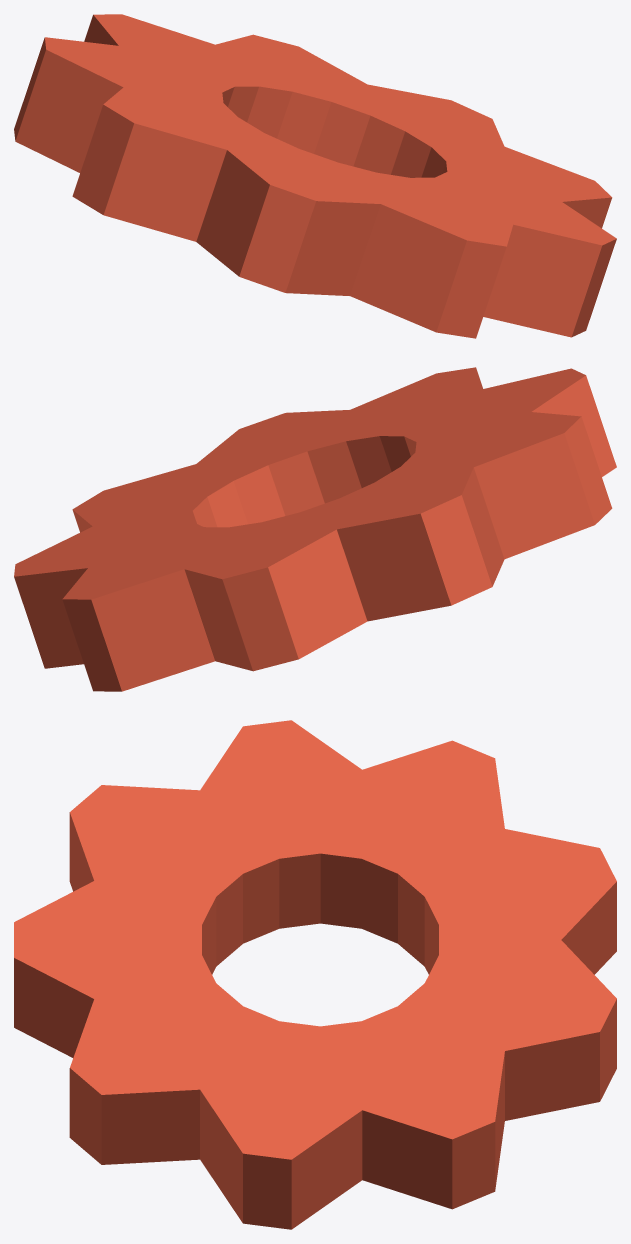
Rendered from Geargeo1.fbx.
The picture shows the model from 3 angles, top to bottom: view 1: azimuth 30°, elevation 25°; view 2: azimuth 150°, elevation 25°; view 3: azimuth 270°, elevation 25°; orthographic projection.
Visible parts, largest first — view 1: Gear1; view 2: Gear1; view 3: Gear1.
Boxes of the visible parts, bbox=[...] form: Gear1: bbox=[14, 14, 616, 338]; Gear1: bbox=[14, 367, 616, 691]; Gear1: bbox=[14, 720, 616, 1229].
Bounding box in the file's own units: 69.51 × 35.7 × 68.95.
